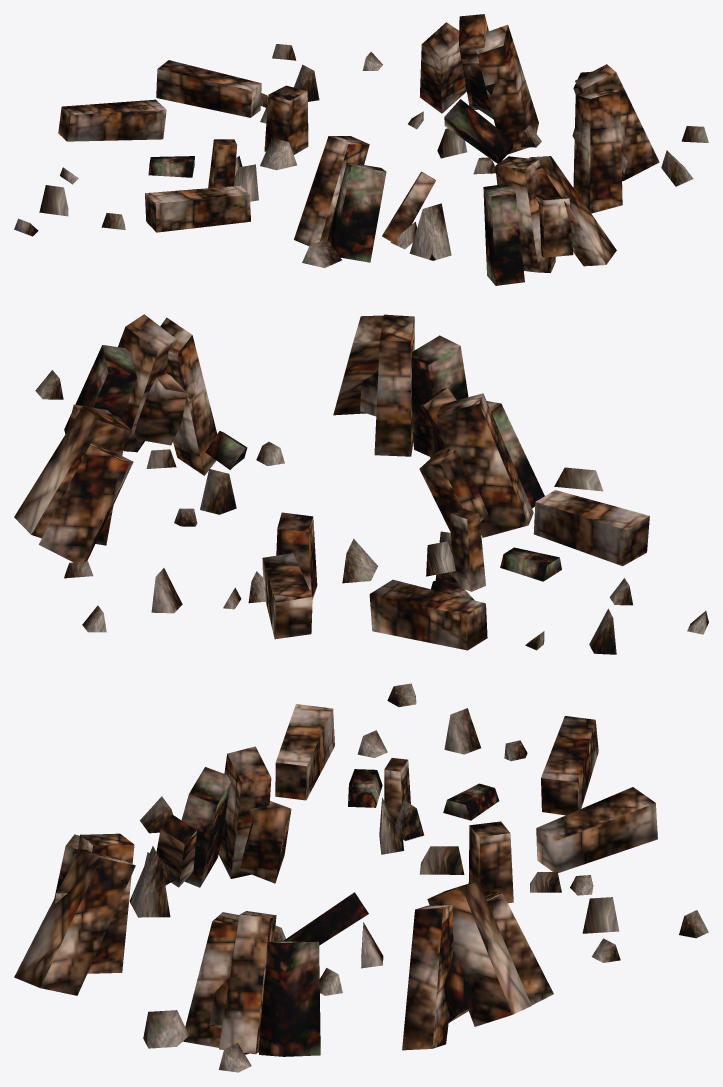
The model's file is thm_dant_large_rock_communal_dest_s01_l2.fbx.
The picture shows the model from 3 angles, top to bottom: view 1: azimuth 30°, elevation 25°; view 2: azimuth 150°, elevation 25°; view 3: azimuth 270°, elevation 25°; orthographic projection. The views are drawn at different scales.
Visible parts, largest first — view 1: mesh_node; view 2: mesh_node; view 3: mesh_node.
Part boxes in pixels (x1,y1,x2,y2): mesh_node: (14,14,708,285); mesh_node: (14,314,708,654); mesh_node: (14,683,708,1072).
Bounding box in the file's own units: 54.56 × 10.81 × 43.17.
